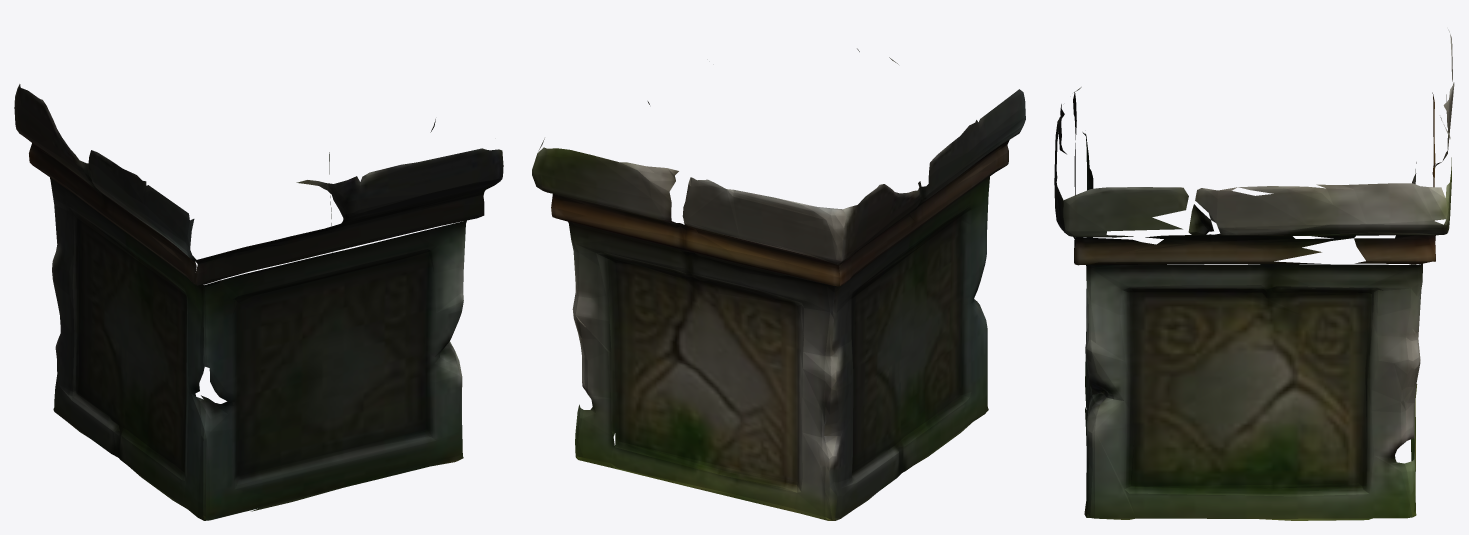
File: pedestal_cracked.glb
The picture shows the model from 3 angles, left to right: view 1: azimuth 30°, elevation 25°; view 2: azimuth 150°, elevation 25°; view 3: azimuth 270°, elevation 25°; orthographic projection. The views are drawn at different scales.
Visible parts, largest first — view 1: world; view 2: world; view 3: world.
Boxes of the visible parts, left/top/right/bottom form: world: left=14, top=84, right=503, bottom=520; world: left=532, top=48, right=1025, bottom=520; world: left=1054, top=29, right=1454, bottom=520.
Bounding box in the file's own units: 0.2878 × 0.2845 × 0.29.
Materials: 1 (1 with a texture image).
